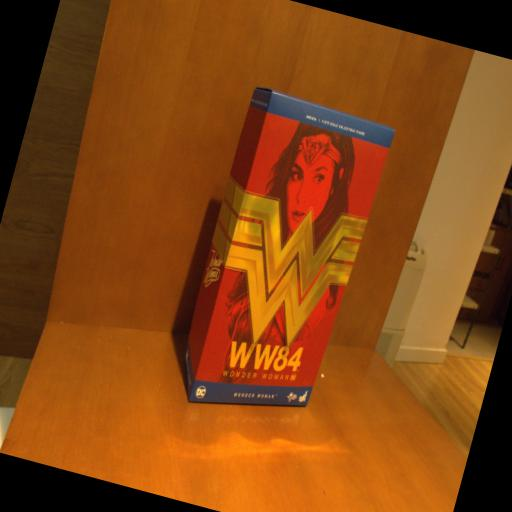WonderWoman: (168, 81, 397, 435)
